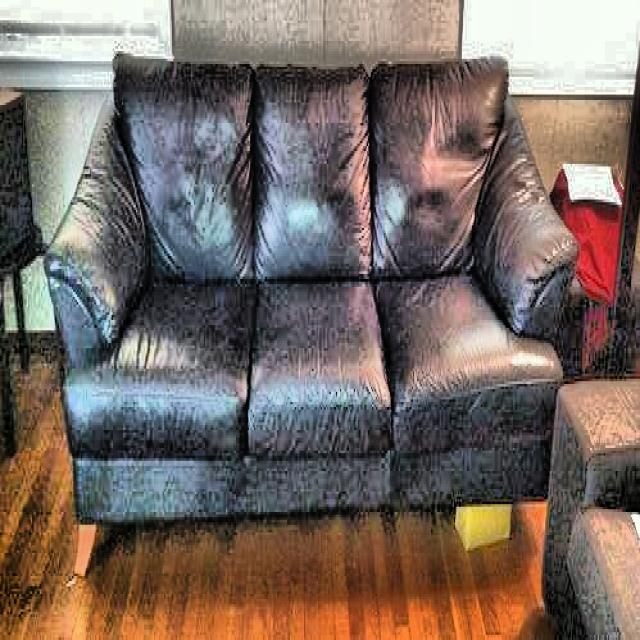sofa: (45, 54, 580, 530)
